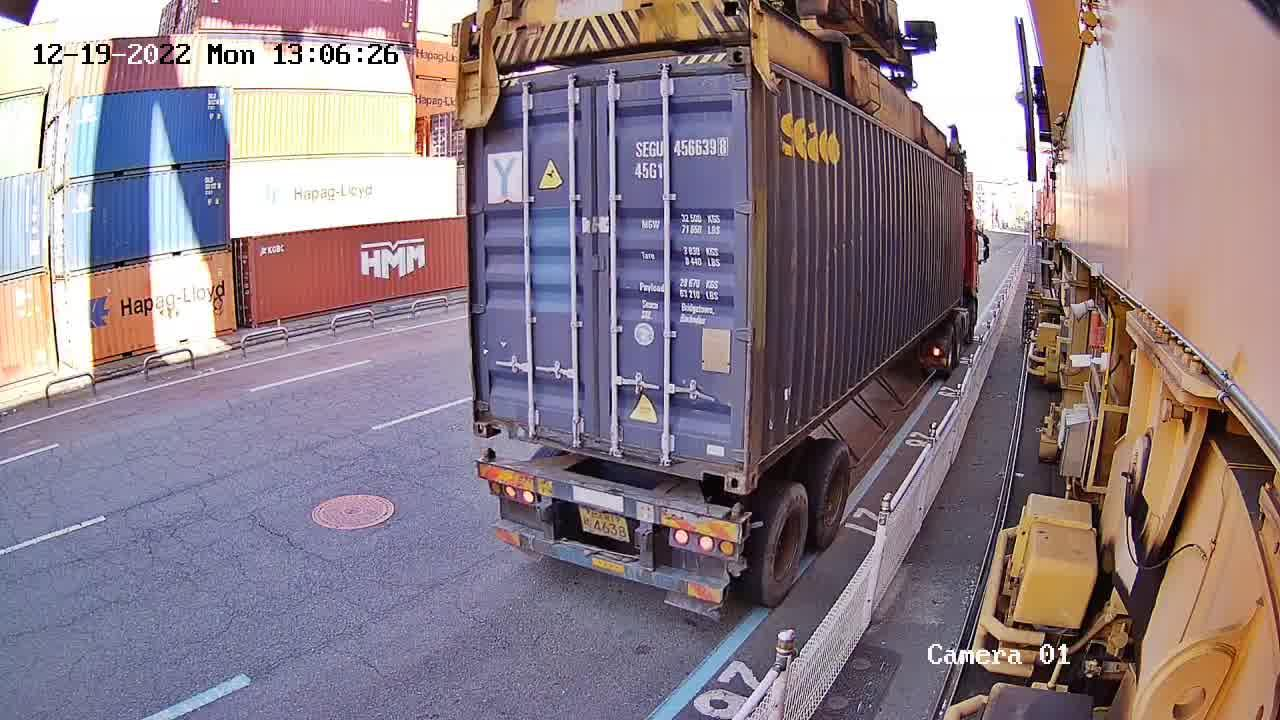Chassis: (479, 456, 749, 540)
Cone: (723, 502, 748, 540), (475, 447, 499, 464)
Hole_L: (748, 421, 775, 490), (473, 400, 512, 441)
Hole_R: (701, 435, 749, 495)
Tire: (762, 485, 809, 603), (817, 442, 855, 542)
